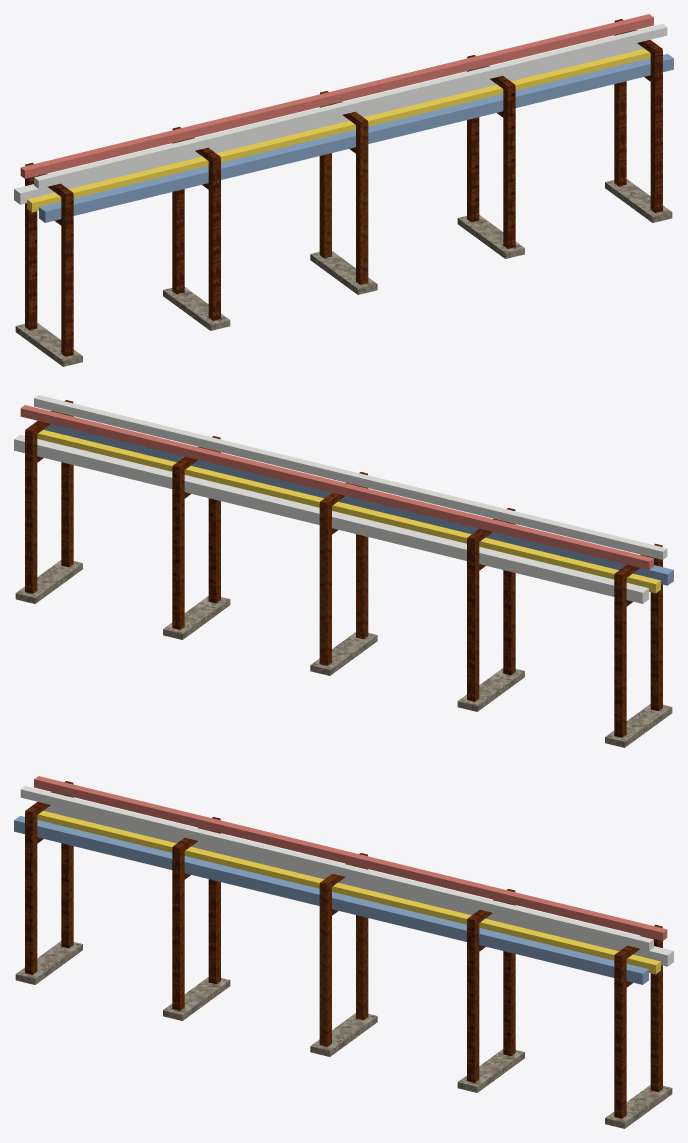
The model's file is ew-pipe-rack.works-v1.lod0.glb.
3 renders of one model, top to bottom at view 1: azimuth 30°, elevation 25°; view 2: azimuth 150°, elevation 25°; view 3: azimuth 330°, elevation 25°, orthographic.
Visible parts, largest first — view 1: ew-pipe-rack; view 2: ew-pipe-rack; view 3: ew-pipe-rack.
Boxes of the visible parts, x1,y1,x2,y2 form: ew-pipe-rack: (14,14,673,366); ew-pipe-rack: (14,395,673,747); ew-pipe-rack: (14,776,673,1128).
Bounding box in the file's own units: 32 × 8.65 × 4.2.
Materials: 3 (2 with a texture image).
